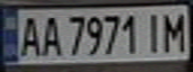1: (118, 11, 142, 55)
7: (63, 11, 87, 56), (103, 11, 124, 56)
9: (81, 11, 106, 56)
A: (15, 12, 45, 59), (36, 12, 63, 57)
I: (139, 9, 166, 54)
M: (160, 8, 190, 53)
